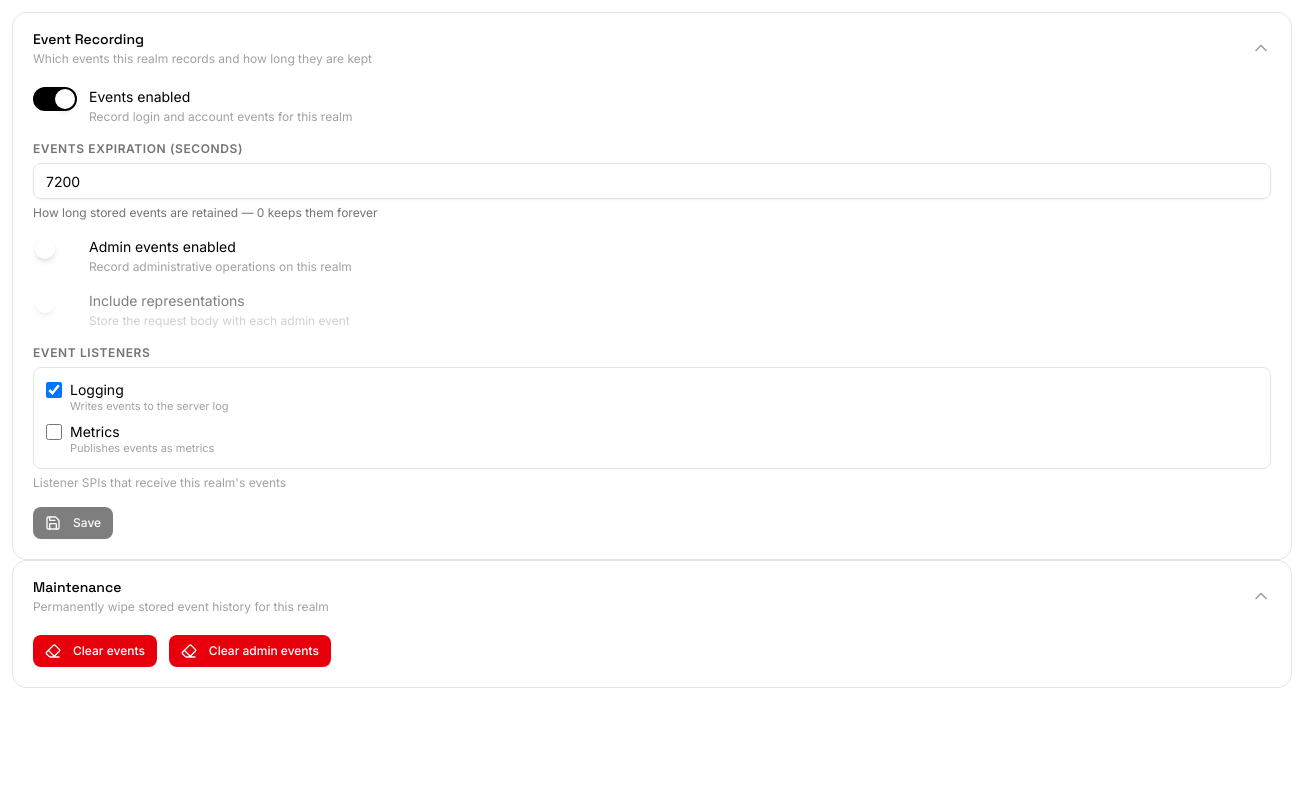
Scenario: EventsConfigSection › disables the details switch until admin events are enabled
The image size is (1304, 812).
Expected: the switch labelled "Include representations" is disabled, x1=89 y1=292 x2=245 y2=309
Click the switch labelled "Admin events enabled" at (162, 246), box x1=89 y1=238 x2=236 y2=255
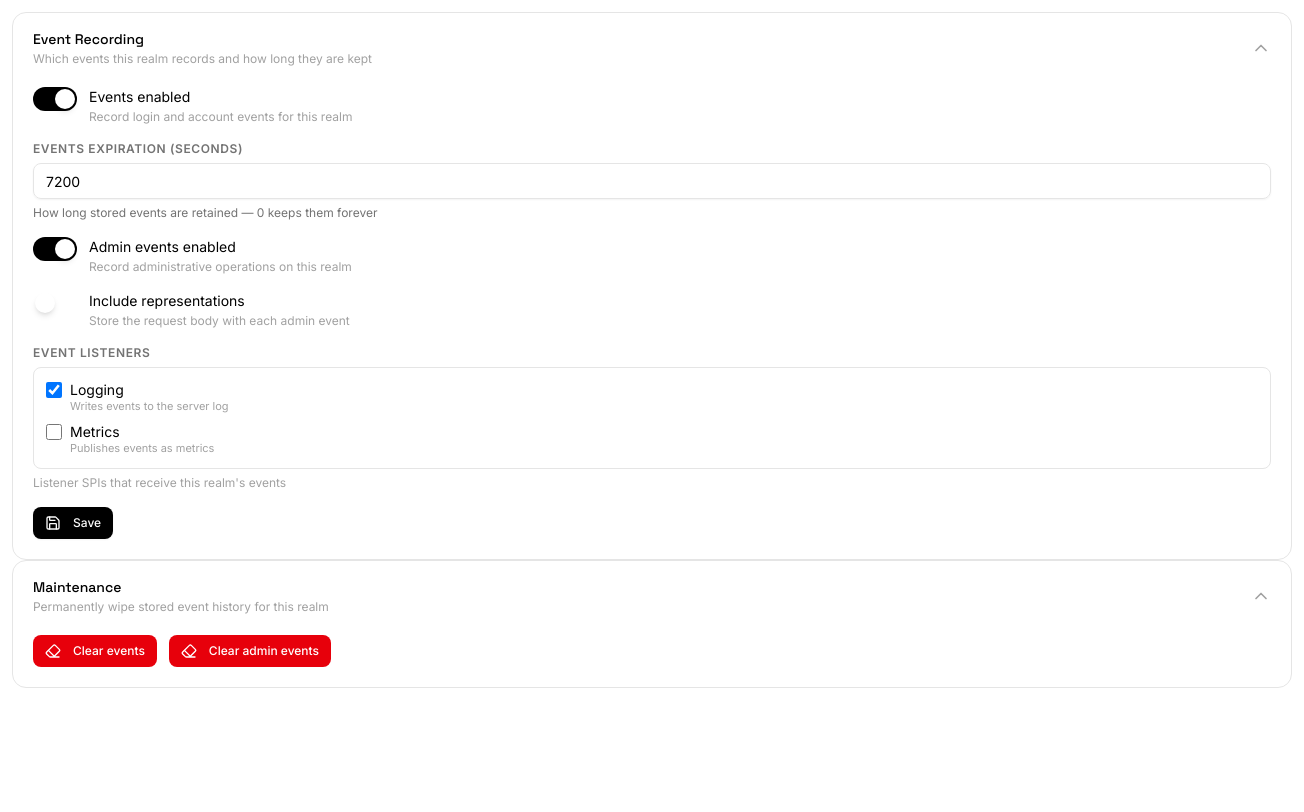
Expected: the switch labelled "Include representations" is enabled, x1=89 y1=292 x2=245 y2=309
